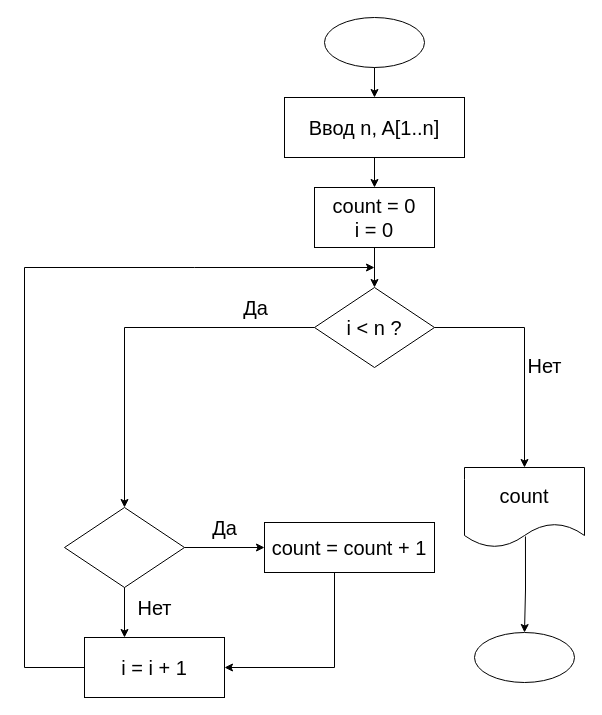
This 602x715 diagram has some shape labels left out. The centre of each missing label's shape, as x and y in pixels:
a[i] > 0 ?: point 124,547
Конец: point 524,657
Начало: point 374,42
